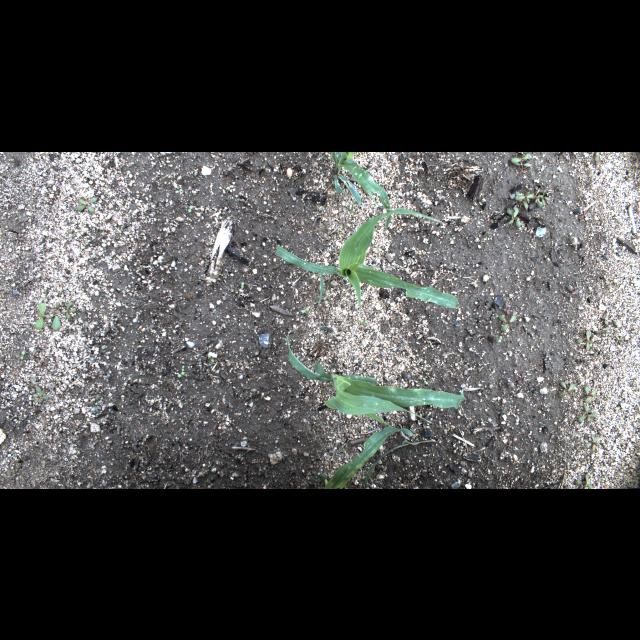crop: (276, 208, 458, 312), (286, 329, 466, 426), (312, 427, 418, 488), (330, 152, 390, 232)
weed: (34, 302, 60, 328), (511, 152, 531, 170), (504, 206, 522, 226), (76, 196, 98, 212), (534, 186, 550, 207), (557, 380, 575, 398), (514, 191, 532, 209), (577, 405, 597, 421), (576, 330, 592, 350), (574, 474, 594, 488), (498, 316, 516, 330), (62, 302, 76, 318), (32, 390, 48, 404), (586, 434, 598, 451), (30, 376, 40, 392), (584, 386, 594, 402)
